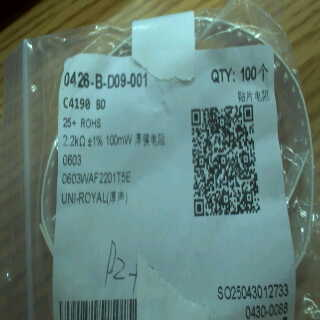2.2kR: (61, 130, 87, 150)
